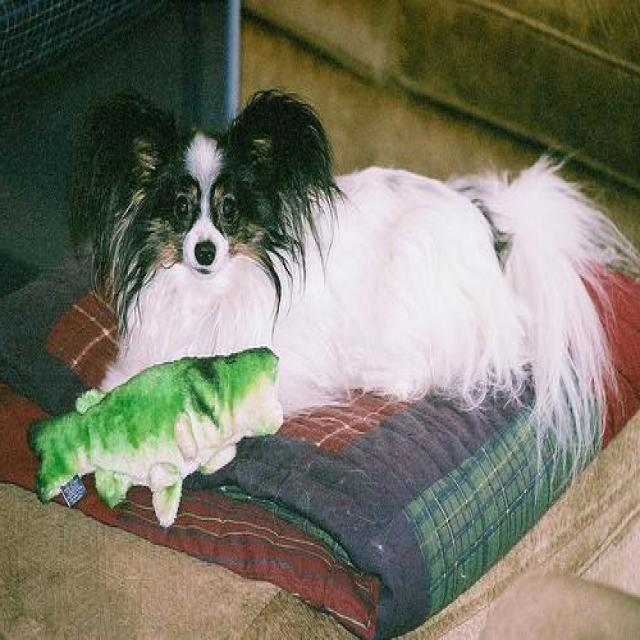papillon: (71, 84, 634, 509)
